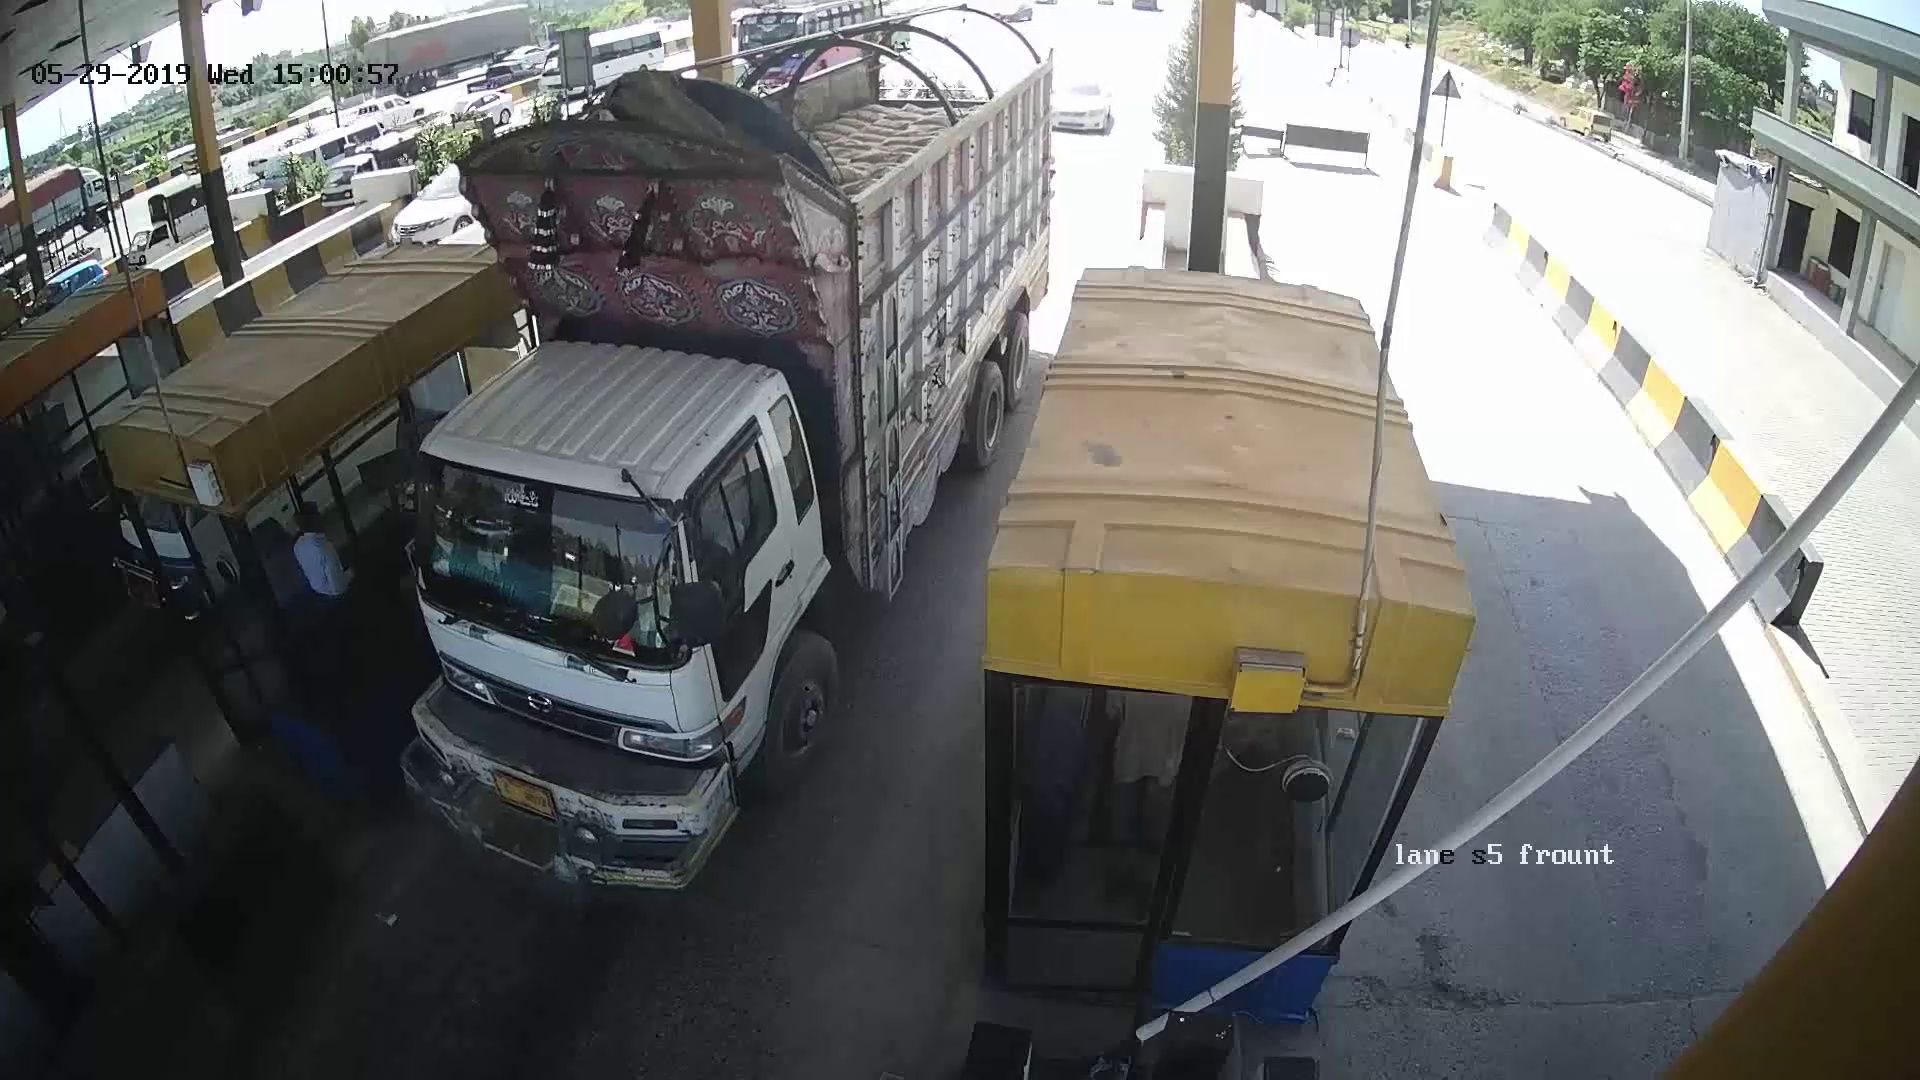car: (1055, 71, 1120, 152)
truck: (438, 100, 975, 754)
